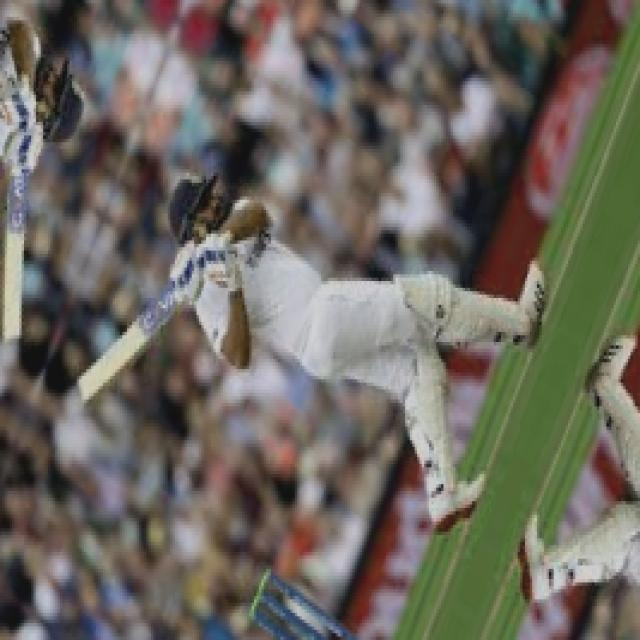toe: (70, 367, 100, 410)
